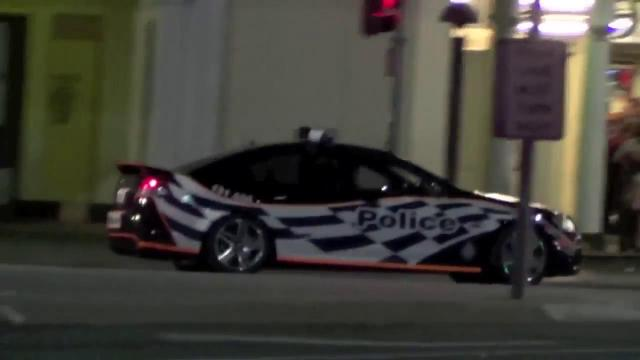police_car: (105, 127, 580, 284)
